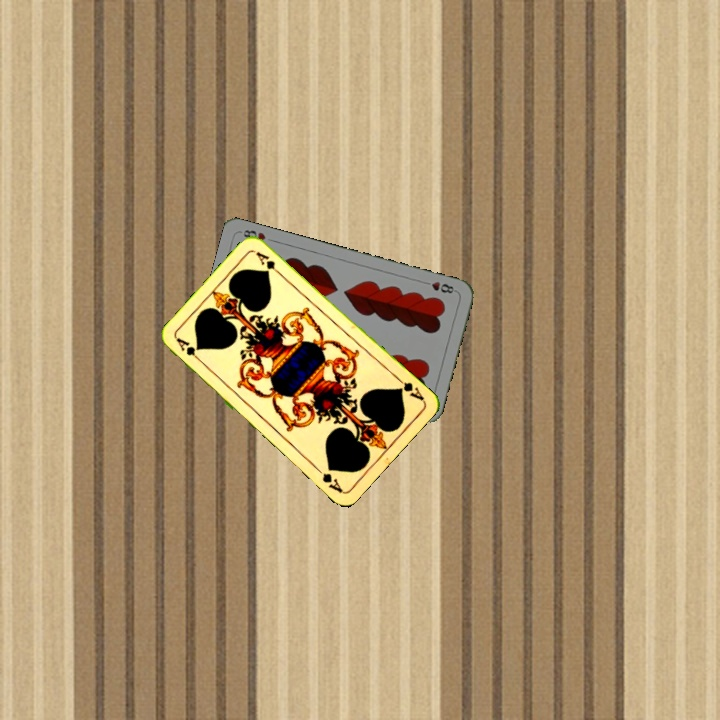GA: (392, 373, 427, 404), (172, 334, 205, 366)
H8: (419, 277, 459, 296)
